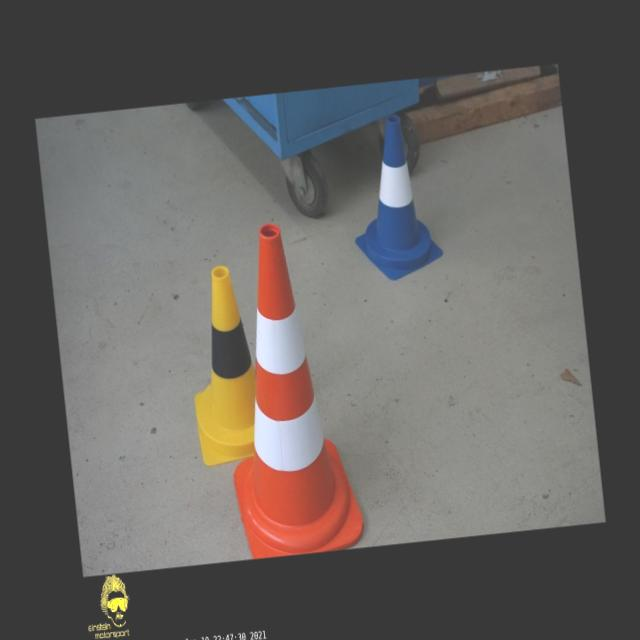blue_cone: (342, 110, 445, 282)
large_orange_cone: (208, 216, 365, 560)
yellow_cone: (180, 264, 264, 466)
